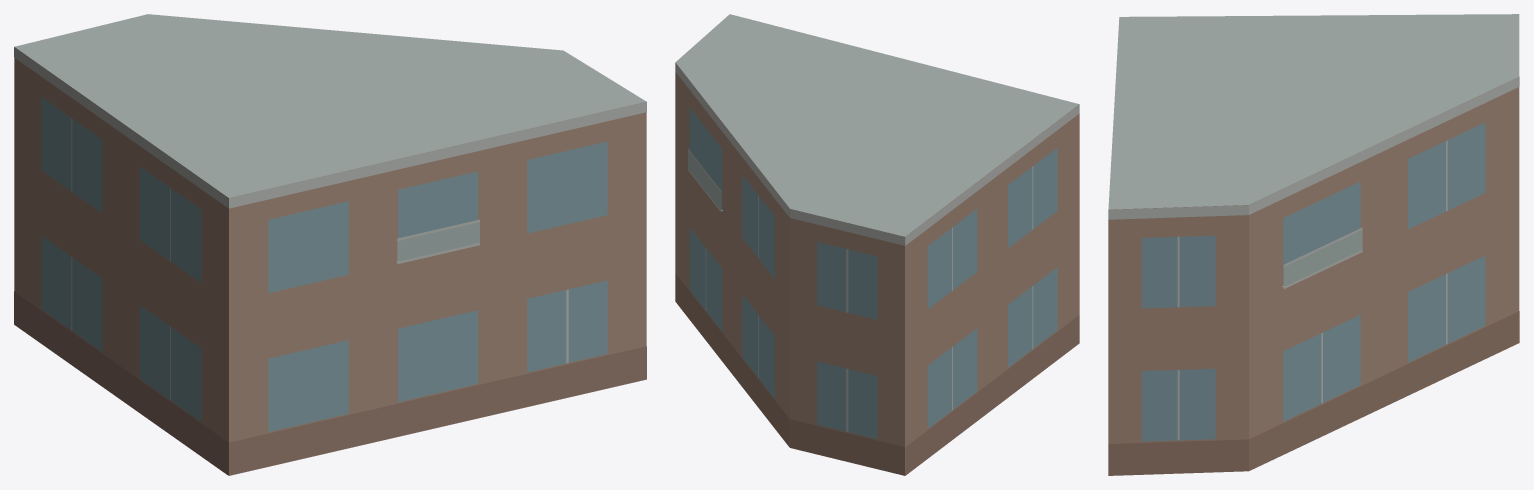
File: survey-upis-32682261.glb
3 views of the same model, side by side, from view 1: azimuth 30°, elevation 25°; view 2: azimuth 150°, elevation 25°; view 3: azimuth 270°, elevation 25° (orthographic). The views are drawn at different scales.
Parts seen in each view (by area): view 1: survey-upis-32682261.tmp; view 2: survey-upis-32682261.tmp; view 3: survey-upis-32682261.tmp.
Part boxes in pixels (x1,y1,x2,y2): survey-upis-32682261.tmp: [14, 14, 646, 475]; survey-upis-32682261.tmp: [675, 14, 1079, 475]; survey-upis-32682261.tmp: [1108, 14, 1519, 475].
Bounding box in the file's own units: 10.09 × 6.4 × 8.97.
